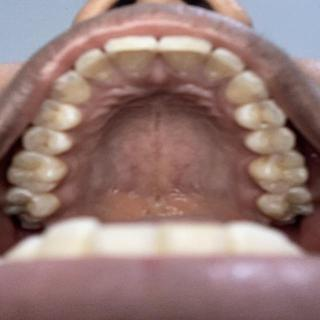UL1BC_decay: (233, 100, 286, 129)
UL1M_decay: (247, 153, 308, 191)
UL2BC_healthy: (243, 129, 294, 153)
UL2M_healthy: (256, 188, 314, 221)
ULCI_healthy: (158, 34, 211, 73)
ULC_healthy: (226, 71, 267, 102)
ULLI_healthy: (207, 46, 245, 78)
UR1BC_healthy: (33, 100, 81, 131)
UR1M_healthy: (6, 152, 68, 192)
UR2BC_healthy: (22, 127, 74, 154)
UR2M_decay: (1, 187, 61, 222)
URCI_healthy: (104, 35, 158, 73)
URC_healthy: (51, 70, 91, 102)
URLI_healthy: (74, 48, 115, 81)
